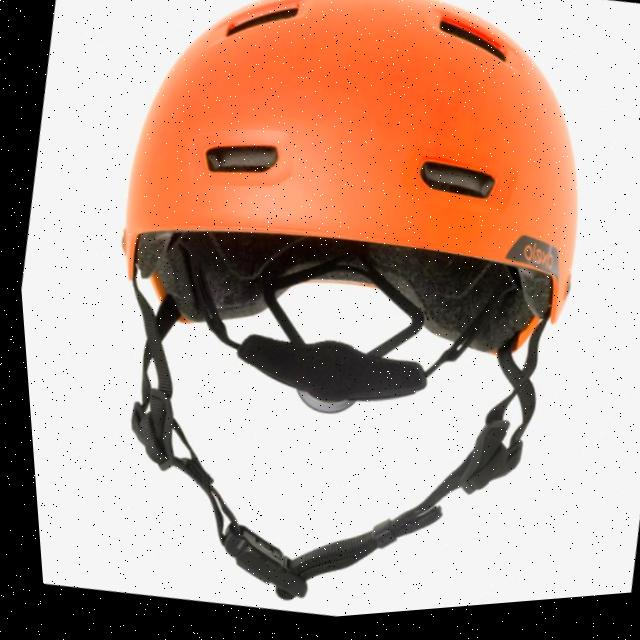illegal_helmet: (32, 0, 640, 638)
